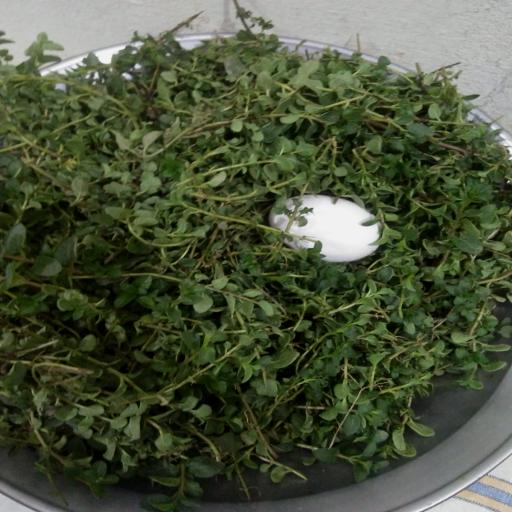telur: (258, 184, 390, 274)
